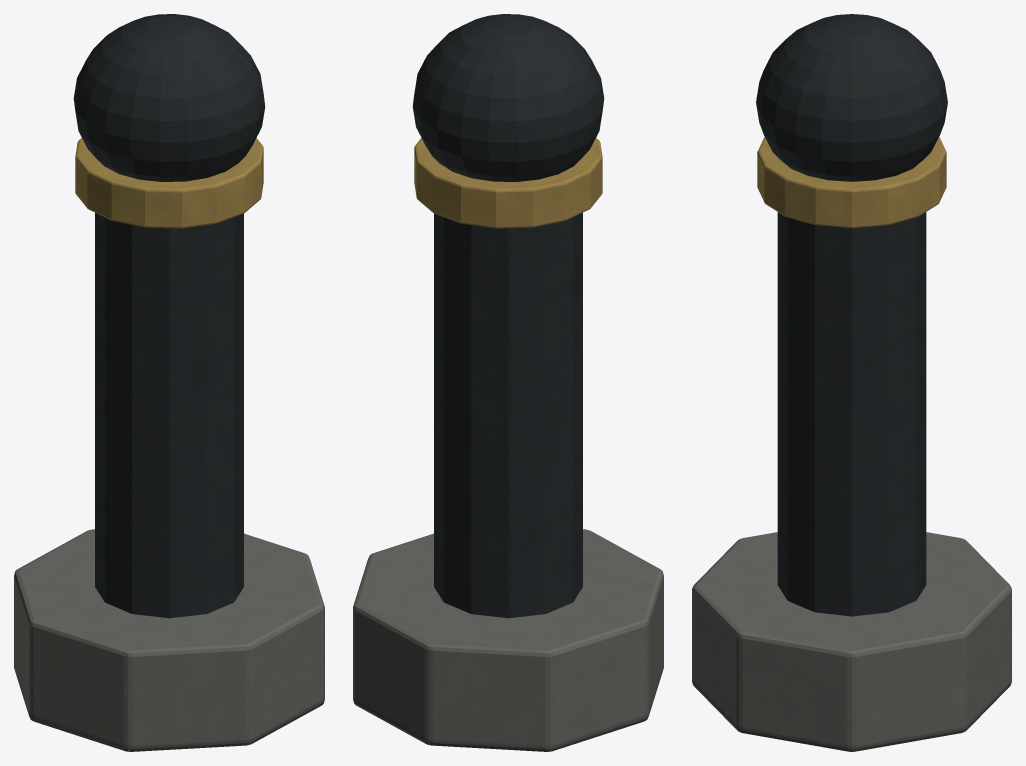
The model's file is Bollard.fbx.
3 views of the same model, side by side, from view 1: azimuth 30°, elevation 25°; view 2: azimuth 150°, elevation 25°; view 3: azimuth 270°, elevation 25° (orthographic).
Visible parts, largest first — view 1: Bollard.001; view 2: Bollard.001; view 3: Bollard.001.
Part boxes in pixels (bbox=[...]): Bollard.001: bbox=[14, 14, 324, 751]; Bollard.001: bbox=[353, 14, 663, 751]; Bollard.001: bbox=[692, 14, 1011, 751].
Size of the model in its own units: 0.5164 by 1.18 by 0.5164.
